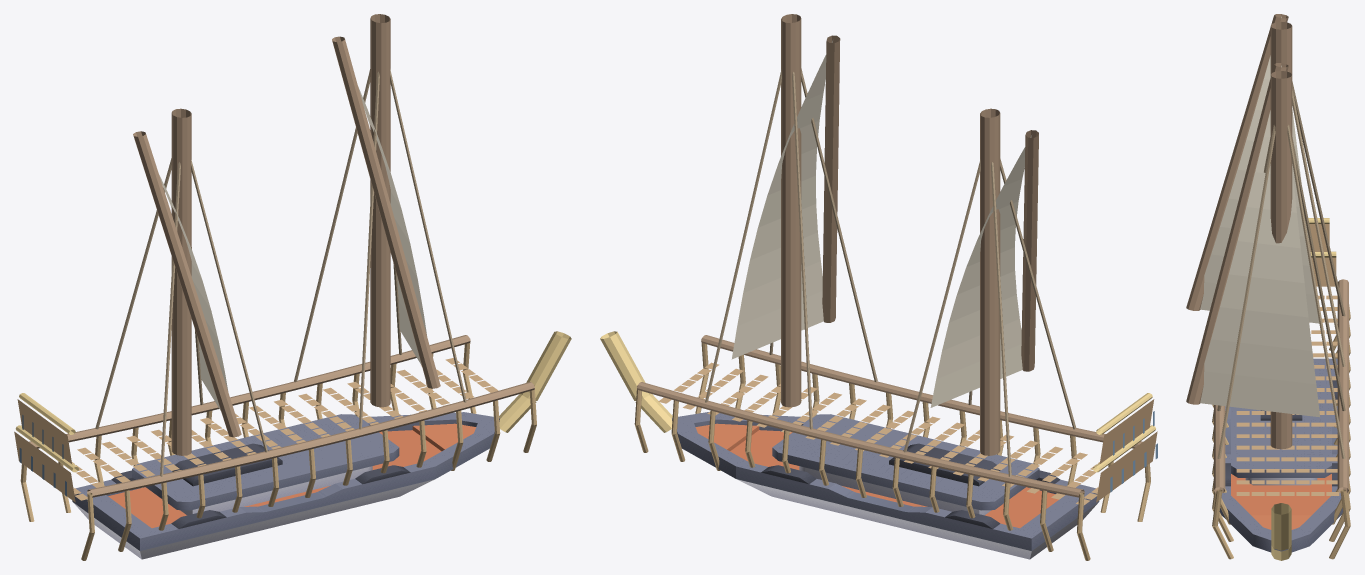
File: sambuk-custom.glb
3 views of the same model, side by side, from view 1: azimuth 30°, elevation 25°; view 2: azimuth 150°, elevation 25°; view 3: azimuth 270°, elevation 25° (orthographic). The views are drawn at different scales.
Visible parts, largest first — view 1: sambuk-custom-geometry, boat-sail-b; view 2: sambuk-custom-geometry, boat-sail-b; view 3: sambuk-custom-geometry, boat-sail-b.
Boxes of the visible parts, box(x1,y1,x2,y2) form: sambuk-custom-geometry: box(14, 14, 571, 560); boat-sail-b: box(72, 412, 499, 559); sambuk-custom-geometry: box(600, 14, 1157, 560); boat-sail-b: box(672, 412, 1099, 559); sambuk-custom-geometry: box(1186, 14, 1350, 560); boat-sail-b: box(1219, 358, 1343, 552).
Size of the model in its own units: 30.92 by 26 by 8.64.
8 materials, 1 textured.
